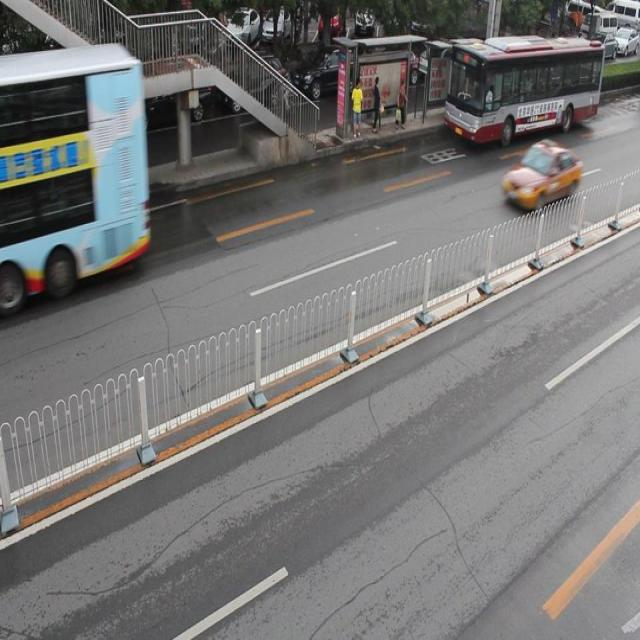car: (18, 82, 108, 147), (501, 137, 580, 210), (119, 72, 210, 126), (220, 49, 285, 111), (292, 42, 361, 99)
van: (1, 48, 148, 302), (449, 36, 603, 143)
